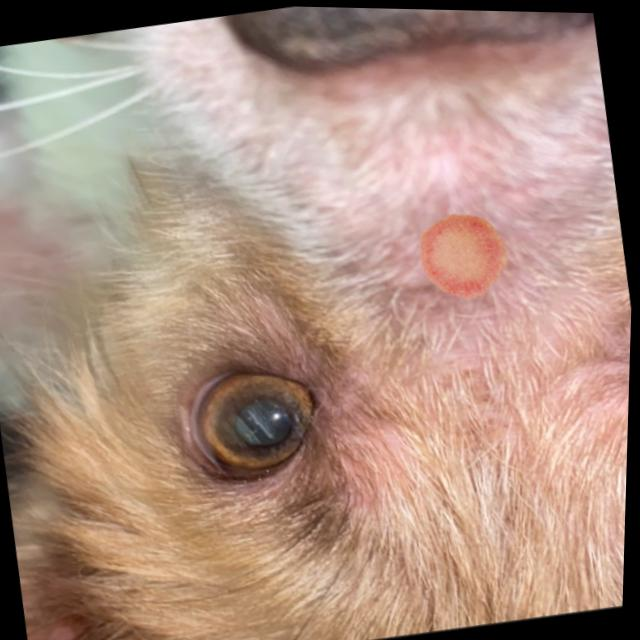ringworm: (379, 197, 535, 317)
